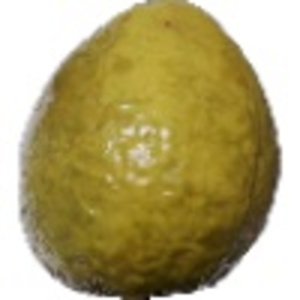goiaba: (10, 4, 284, 290)
